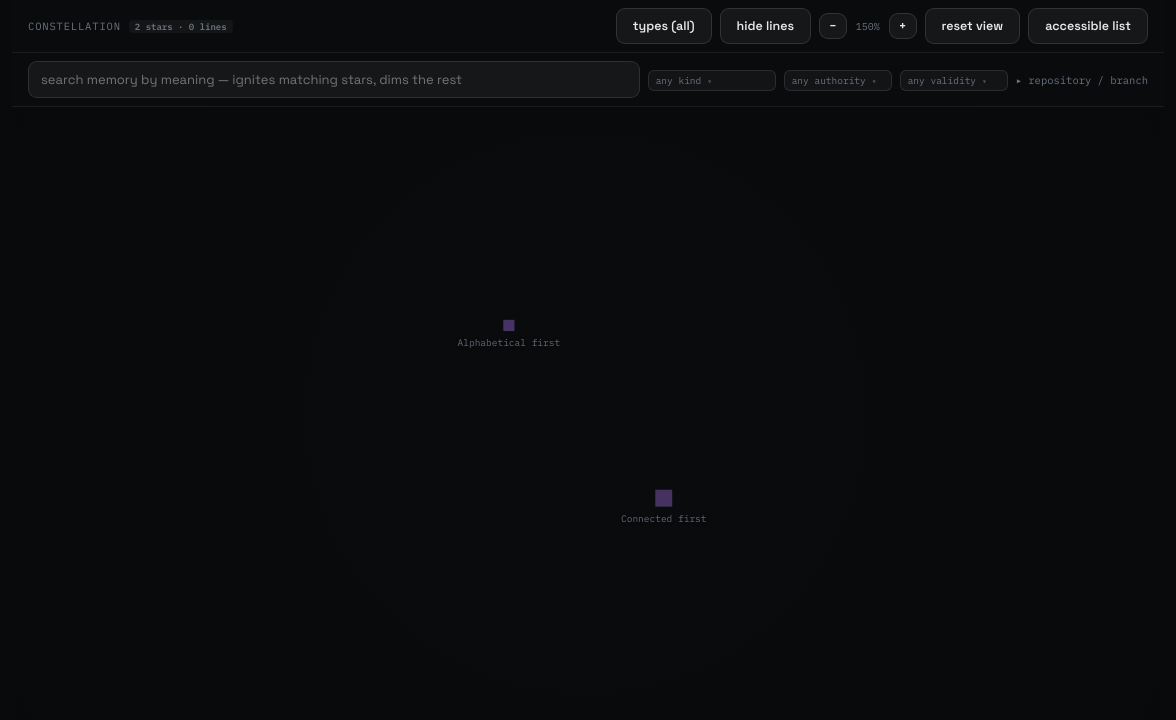
Scenario: the accessible sampled catalogue › labels the bounded sample truthfully and defaults to most-connected order
Click the button "accessible list". click: {"x": 1088, "y": 26}
box: [1028,8,1148,44]
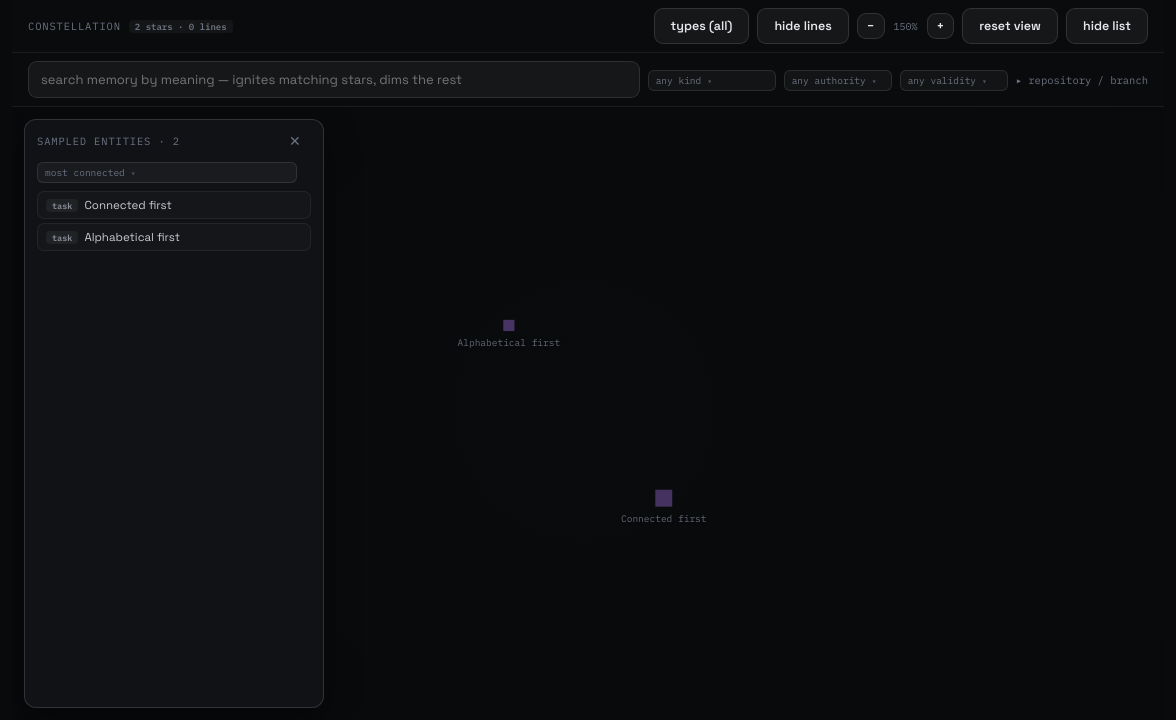
expect the text "Sampled entities · 2" is shown: met, box [37,134,180,148]
expect the button with aria-label "entity ordering" shows "most connected": met, box [37,162,297,183]
